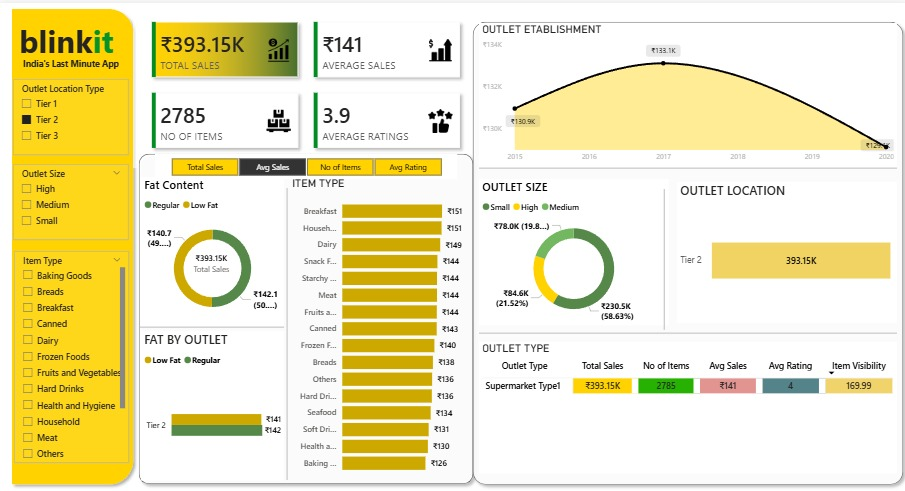

This screenshot's page, from the dashboard's own definition file:
{"tool":"powerbi","page":{"name":"Page 1","canvas":[1400,800],"ordinal":0},"visuals":[{"type":"shape","box":[10,0,205,750],"z":0},{"type":"textbox","box":[26.8,20.5,159.1,75.6],"z":1000},{"type":"textbox","box":[15.7,80.3,190.6,31.5],"z":2000},{"type":"cardVisual","fields":{"Data":["BlinkIT Grocery Data.Total Sales","BlinkIT Grocery Data.Avg Sales","BlinkIT Grocery Data.No of Items","BlinkIT Grocery Data.Avg Rating"]},"box":[206.3,0,532.3,253.5],"z":3000},{"type":"shape","box":[206.3,223.6,532.3,526],"z":4000},{"type":"donutChart","title":"Fat Content","fields":{"Y":["BlinkIT Grocery Data.Total Sales"],"Category":["BlinkIT Grocery Data.Item Fat Content"]},"box":[218.3,268.3,220,230],"z":5000},{"type":"slicer","fields":{"Values":["Metrics 3.Metrics"]},"box":[239.4,233.1,464.6,39.4],"z":6000},{"type":"cardVisual","fields":{"Data":["BlinkIT Grocery Data.Total Sales"]},"box":[268.3,365,118.3,71.7],"z":7000},{"type":"clusteredBarChart","title":"FAT BY OUTLET","fields":{"Y":["BlinkIT Grocery Data.Total Sales"],"Category":["BlinkIT Grocery Data.Outlet Location Type"],"Series":["BlinkIT Grocery Data.Item Fat Content"]},"box":[218.9,503.9,220.5,229.9],"z":8000},{"type":"shape","box":[216.7,455,221.7,86.7],"z":9000},{"type":"shape","box":[434.6,285,15.7,448.8],"z":10000},{"type":"barChart","title":"ITEM TYPE","fields":{"Y":["BlinkIT Grocery Data.Total Sales"],"Category":["BlinkIT Grocery Data.Item Type"]},"box":[445.7,267.7,274,466.1],"z":11000},{"type":"shape","box":[720,20,680,730],"z":12000},{"type":"lineChart","title":"OUTLET ETABLISHMENT","fields":{"Y":["BlinkIT Grocery Data.Total Sales"],"Category":["BlinkIT Grocery Data.Outlet Establishment Year"]},"box":[738.3,30,643.3,223.3],"z":13000},{"type":"donutChart","title":"OUTLET SIZE","fields":{"Y":["BlinkIT Grocery Data.Total Sales"],"Category":["BlinkIT Grocery Data.Outlet Size"]},"box":[738.3,270,291.7,225],"z":14000},{"type":"shape","box":[1016.7,286.7,13.3,216.7],"z":15000},{"type":"funnel","title":"OUTLET LOCATION","fields":{"Category":["BlinkIT Grocery Data.Outlet Location Type"],"Y":["Sum(BlinkIT Grocery Data.Sales)"]},"box":[1043.3,275,338.3,216.7],"z":16000},{"type":"shape","box":[738.3,465,643.3,86.7],"z":17000},{"type":"pivotTable","title":"OUTLET TYPE","fields":{"Rows":["BlinkIT Grocery Data.Outlet Type"],"Values":["BlinkIT Grocery Data.Total Sales","BlinkIT Grocery Data.No of Items","BlinkIT Grocery Data.Avg Sales","BlinkIT Grocery Data.Avg Rating","Sum(BlinkIT Grocery Data.Item Visibility)"]},"box":[738.3,521.7,643.3,201.7],"z":18000},{"type":"shape","box":[738.3,210,643.3,86.7],"z":19000},{"type":"slicer","fields":{"Values":["BlinkIT Grocery Data.Outlet Location Type"]},"box":[21.7,116.7,178.3,116.7],"z":20000},{"type":"slicer","fields":{"Values":["BlinkIT Grocery Data.Outlet Size"]},"box":[21.7,248.3,178.3,116.7],"z":21000},{"type":"slicer","fields":{"Values":["BlinkIT Grocery Data.Item Type"]},"box":[23.3,381.7,176.7,341.7],"z":22000}]}

Visuals, with their boxes on the page's 1400x800 design canvas (x1, y1, x2, y2). These are canvas units, not pixel positions in the 905x491 screenshot, which may show the page scaled, cropped or inside an application window:
shape: (10,0,215,750)
textbox: (27,20,186,96)
textbox: (16,80,206,112)
cardVisual - BlinkIT Grocery Data.Total Sales x BlinkIT Grocery Data.Avg Sales: (206,0,739,254)
shape: (206,224,739,750)
"Fat Content" donutChart: (218,268,438,498)
slicer - Metrics 3.Metrics: (239,233,704,272)
cardVisual - BlinkIT Grocery Data.Total Sales: (268,365,387,437)
"FAT BY OUTLET" clusteredBarChart: (219,504,439,734)
shape: (217,455,438,542)
shape: (435,285,450,734)
"ITEM TYPE" barChart: (446,268,720,734)
shape: (720,20,1400,750)
"OUTLET ETABLISHMENT" lineChart: (738,30,1382,253)
"OUTLET SIZE" donutChart: (738,270,1030,495)
shape: (1017,287,1030,503)
"OUTLET LOCATION" funnel: (1043,275,1382,492)
shape: (738,465,1382,552)
"OUTLET TYPE" pivotTable: (738,522,1382,723)
shape: (738,210,1382,297)
slicer - BlinkIT Grocery Data.Outlet Location Type: (22,117,200,233)
slicer - BlinkIT Grocery Data.Outlet Size: (22,248,200,365)
slicer - BlinkIT Grocery Data.Item Type: (23,382,200,723)
